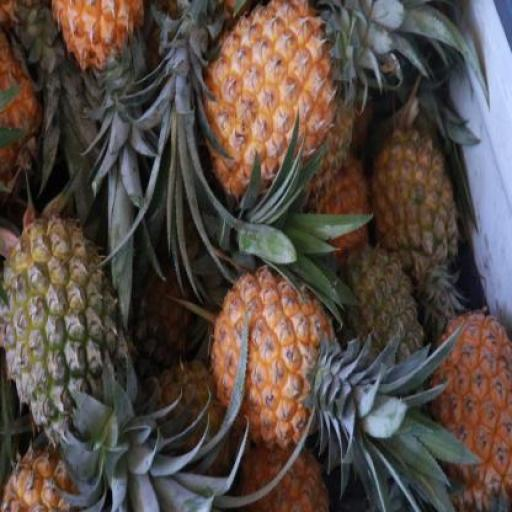------------------------------: (2, 218, 136, 448), (374, 117, 460, 289)
Pineapple - v8 v1: (198, 2, 348, 197), (208, 260, 330, 444), (438, 300, 510, 502)
